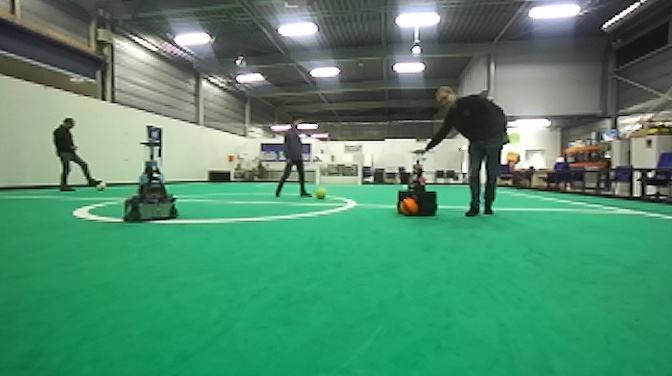ball: (397, 197, 418, 217), (313, 184, 327, 202), (94, 179, 108, 192)
goal: (315, 161, 363, 187)
goalpost: (314, 160, 321, 185), (356, 161, 362, 188)
human: (414, 83, 513, 220), (48, 114, 107, 194), (270, 114, 311, 200)
robot: (119, 136, 180, 225), (394, 149, 440, 220)
